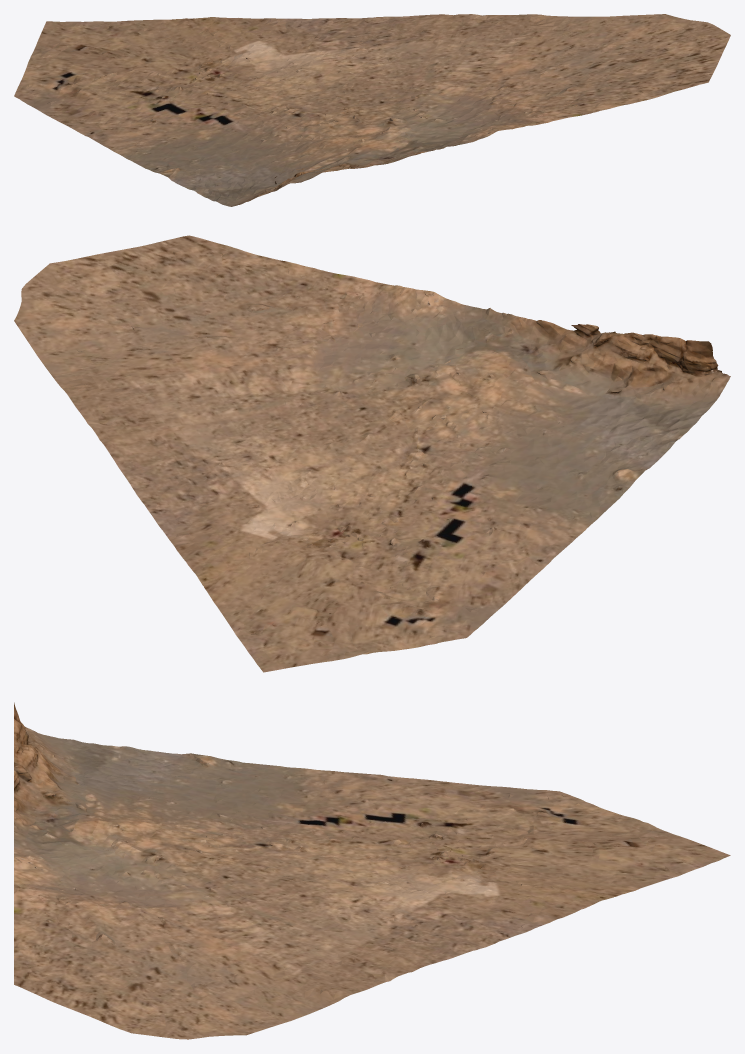
3 views of the same model, one above another, from view 1: azimuth 30°, elevation 25°; view 2: azimuth 150°, elevation 25°; view 3: azimuth 270°, elevation 25° (orthographic). The views are drawn at different scales.
Bounding box in the file's own units: 57.96 × 8.95 × 55.64.
1 material, 1 textured.
